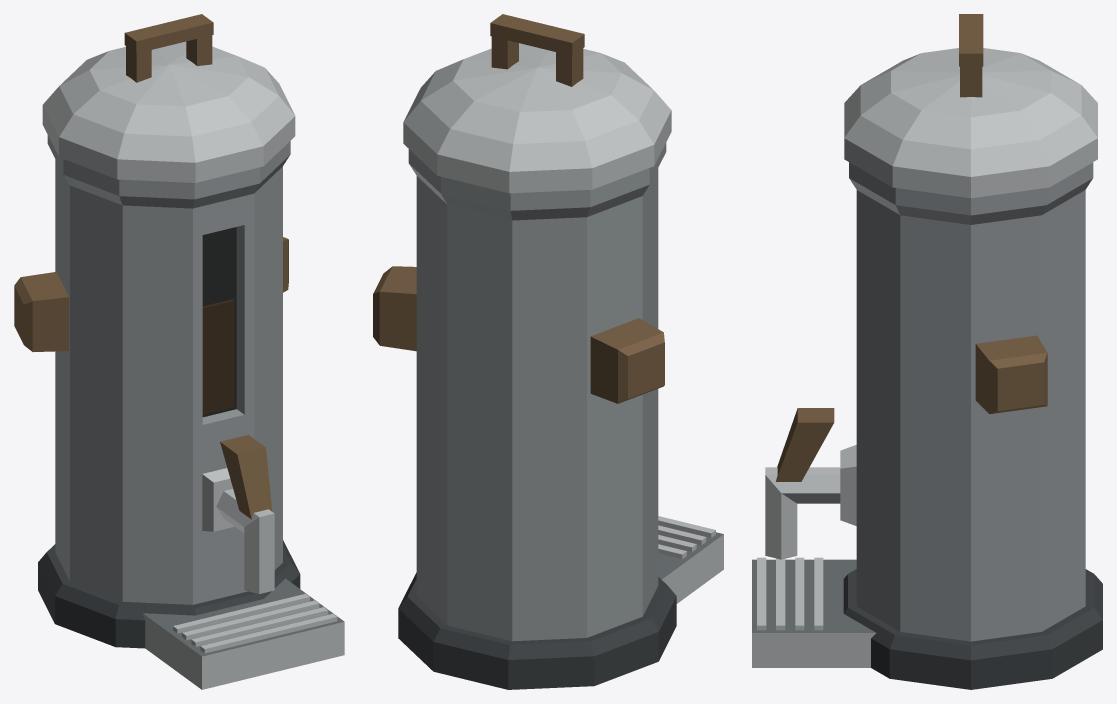
The model's file is batch-brew-urn-f54a3b.glb.
3 views of the same model, side by side, from view 1: azimuth 30°, elevation 25°; view 2: azimuth 150°, elevation 25°; view 3: azimuth 270°, elevation 25° (orthographic). The views are drawn at different scales.
Parts seen in each view (by area): view 1: batch-brew-urn, lid, tray, tap-lever; view 2: batch-brew-urn, lid, tray; view 3: batch-brew-urn, lid, tray, tap-lever.
Part boxes in pixels (x1,y1,x2,y2): batch-brew-urn: (14,135,300,648); lid: (42,14,295,182); tray: (143,578,344,689); tap-lever: (220,435,272,519); batch-brew-urn: (373,143,676,689); lid: (403,14,671,193); tray: (658,516,723,603); batch-brew-urn: (765,162,1102,689); lid: (844,14,1097,198); tray: (752,557,875,667); tap-lever: (776,408,834,481).
Size of the model in its own units: 0.3158 by 0.647 by 0.3443.
